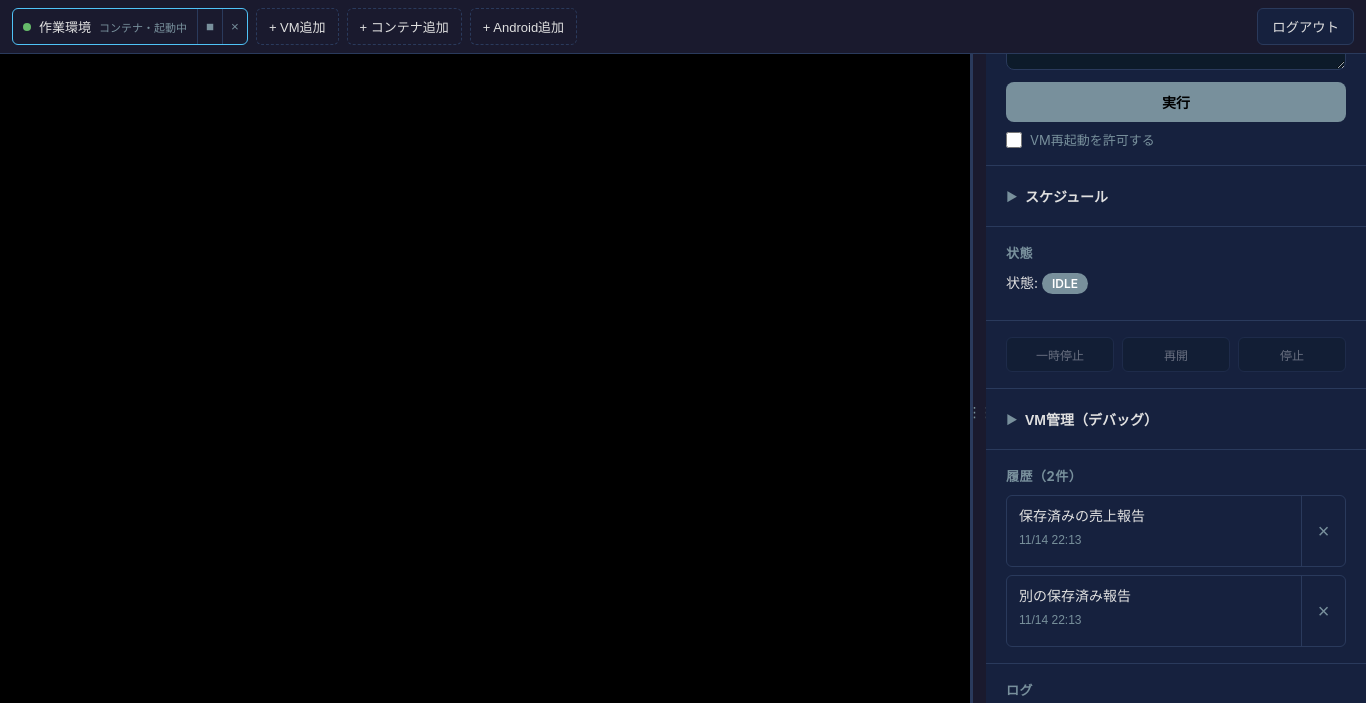
it: a rejected detail stays beside its record, preserves the previous task and can be retried: null
(page scrolled)
Click the button titled "保存済みの売上報告" at (1082, 516), box 1007,496 -> 1301,566
(page scrolled)
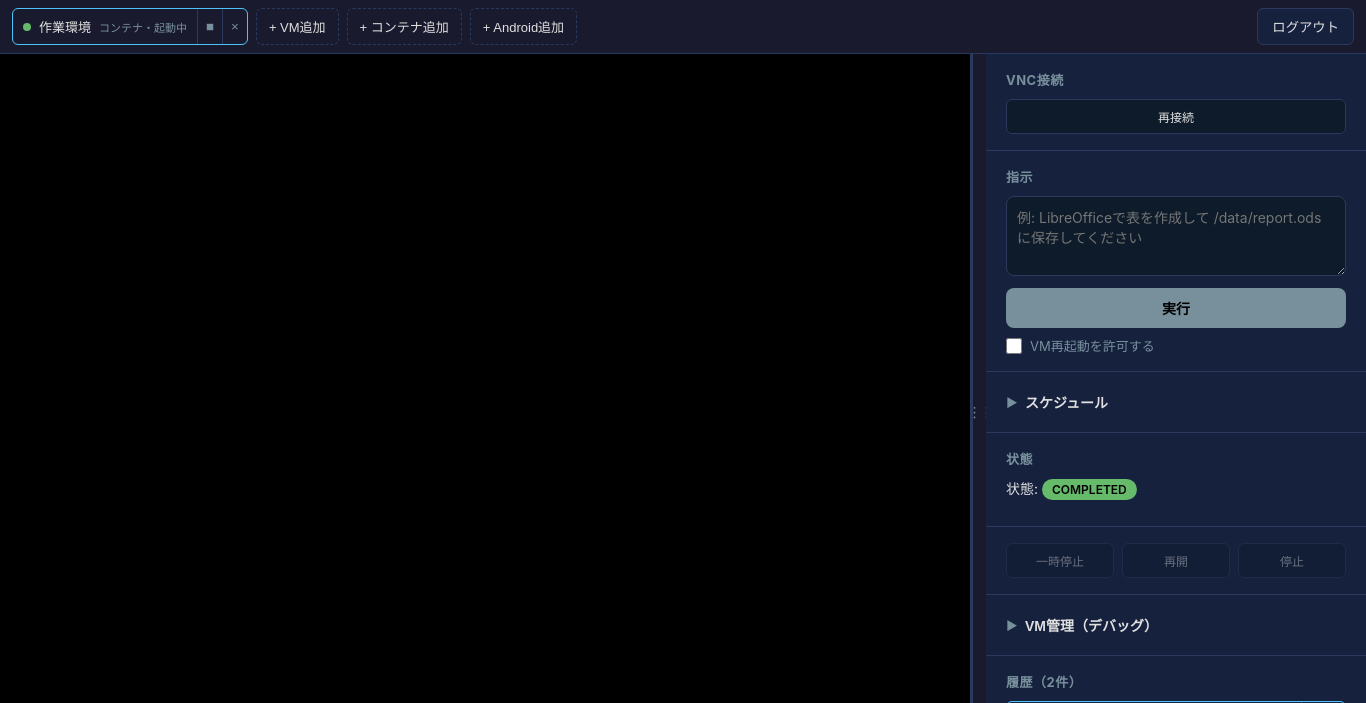
Type "編集中の指示を残す" into the text box named "指示" at (1176, 236), box 1006,196 -> 1346,276
(page scrolled)
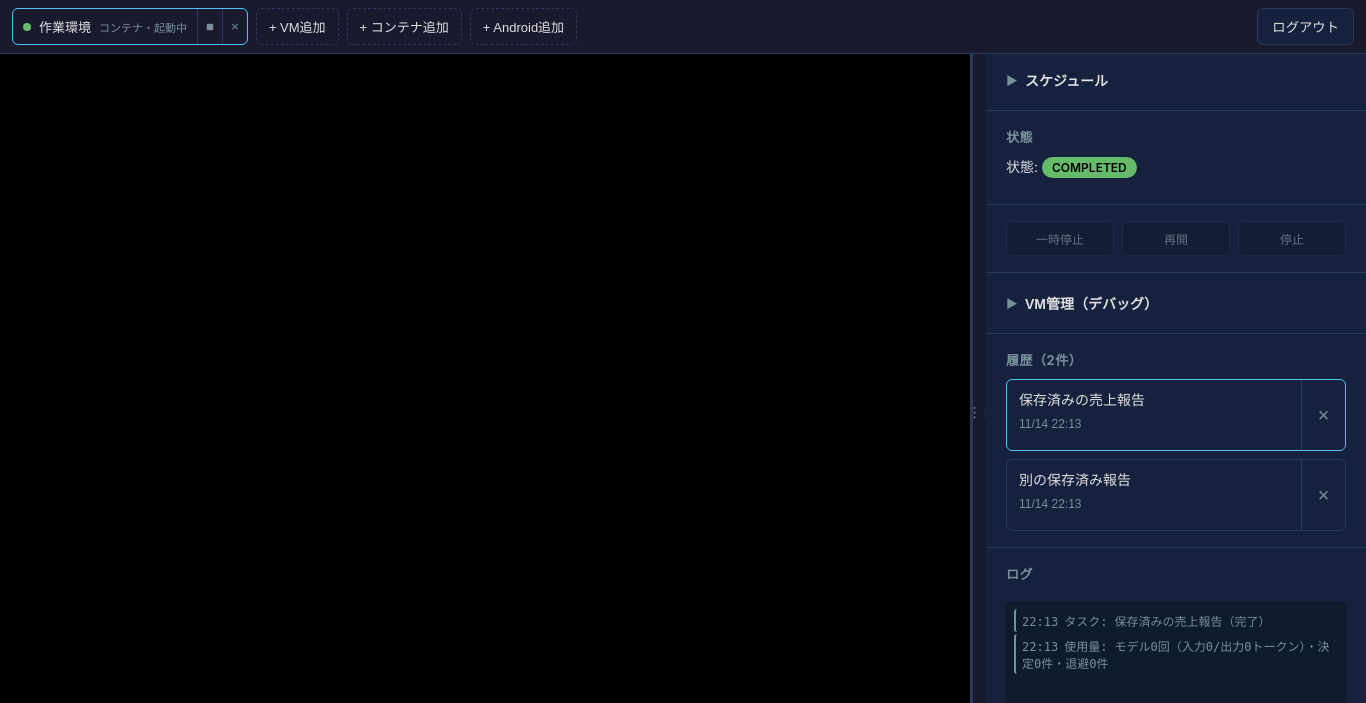
Click the button titled "別の保存済み報告" at (1075, 480), box 1007,460 -> 1301,530
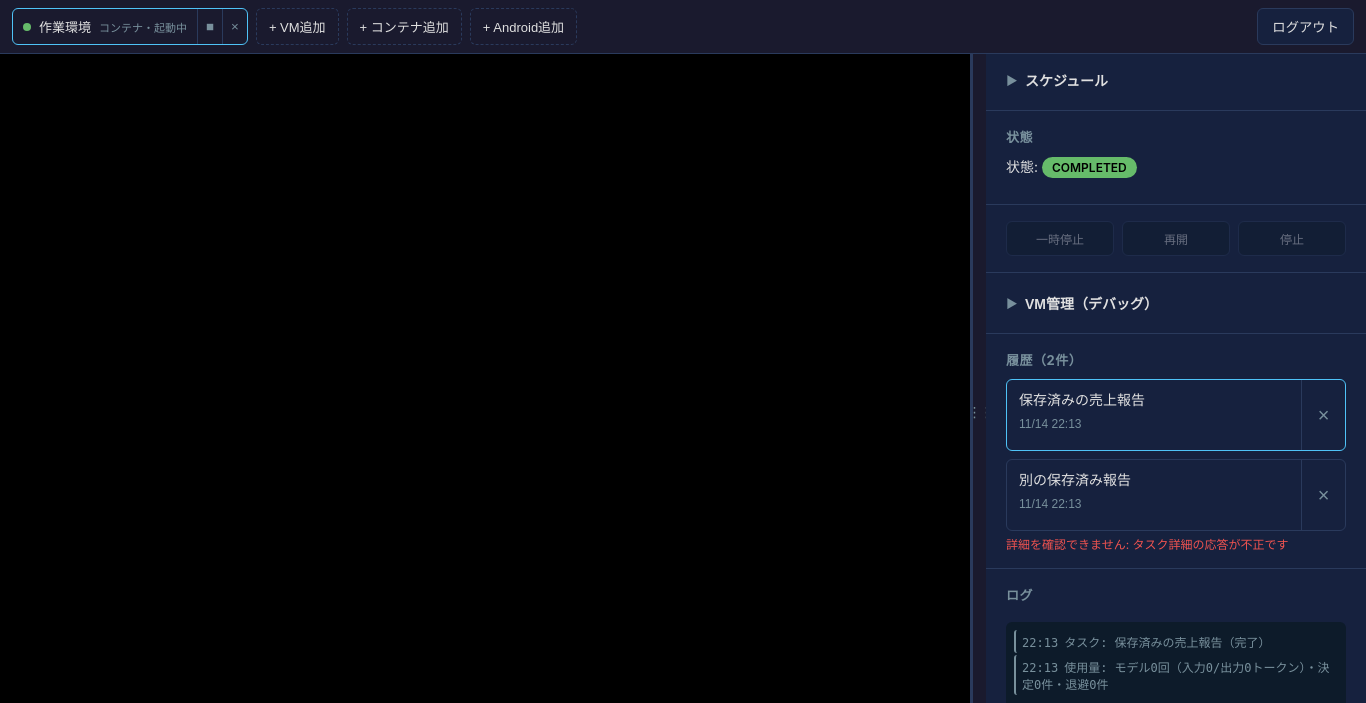
Expected: the message shows "タスク詳細の応答が不正です", 1006,537 -> 1288,552
Click the button titled "別の保存済み報告" at (1075, 480), box 1007,460 -> 1301,530
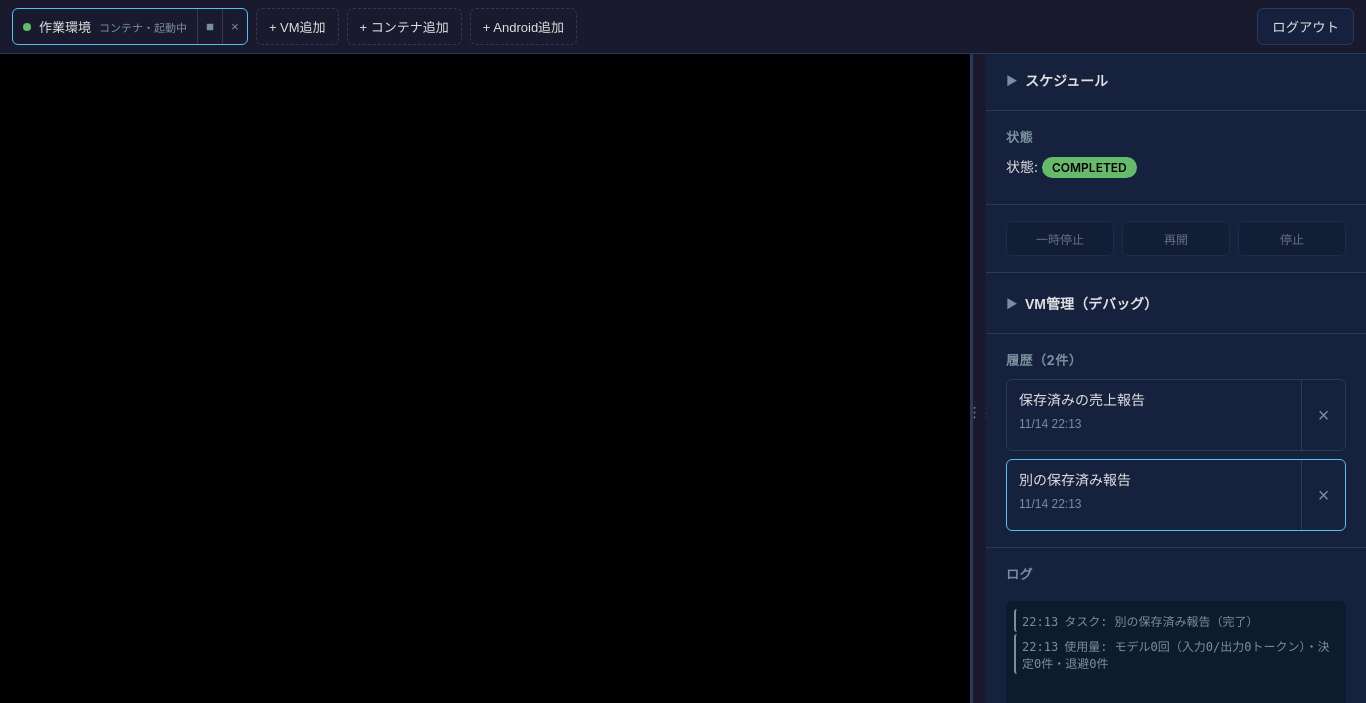
Expected: the message "詳細を確認できません: タスク詳細の応答が不正です" is gone
